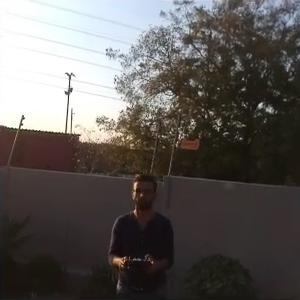follow: (105, 167, 183, 298)
